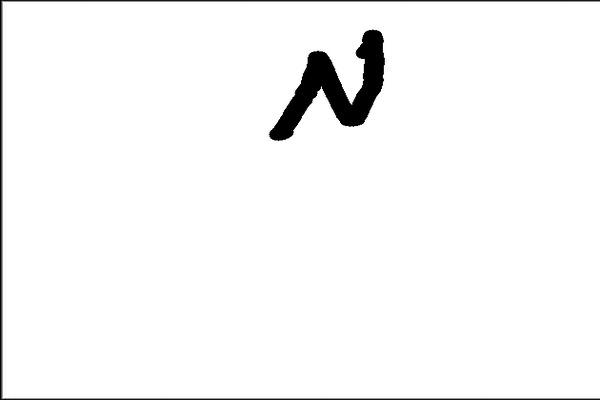N: (263, 25, 391, 143)
